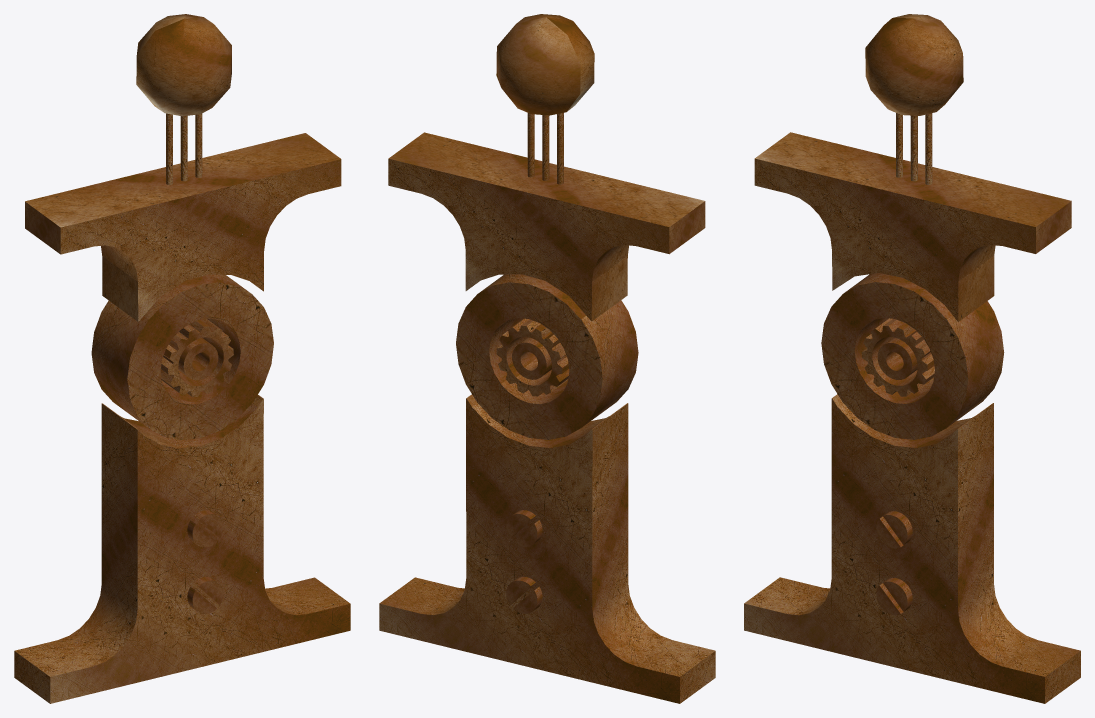
The picture shows the model from 3 angles, left to right: view 1: azimuth 30°, elevation 25°; view 2: azimuth 150°, elevation 25°; view 3: azimuth 330°, elevation 25°; orthographic projection.
Parts seen in each view (by area): view 1: I, Sphere_058, Cogwheel_257, Screw_818, Screw_821; view 2: I, Sphere_058, Cogwheel_257, Screw_818, Screw_821, Tube_413; view 3: I, Sphere_058, Cogwheel_257, Screw_818, Screw_821, Tube_418, Tube_413.
Boxes of the visible parts, x1,y1,x2,y2 form: I: [14, 133, 350, 703]; Sphere_058: [136, 14, 231, 116]; Cogwheel_257: [160, 319, 233, 396]; Screw_818: [187, 510, 223, 547]; Screw_821: [187, 577, 223, 613]; I: [379, 132, 715, 703]; Sphere_058: [496, 14, 594, 115]; Cogwheel_257: [496, 318, 569, 396]; Screw_818: [506, 510, 542, 547]; Screw_821: [506, 576, 542, 613]; Tube_413: [542, 115, 549, 180]; I: [744, 132, 1080, 703]; Sphere_058: [865, 14, 963, 115]; Cogwheel_257: [861, 318, 934, 396]; Screw_818: [876, 511, 912, 548]; Screw_821: [876, 578, 912, 615]; Tube_418: [925, 113, 932, 184]; Tube_413: [910, 115, 917, 181].
Bounding box in the file's own units: 48.41 × 97.86 × 13.87.
1 material, 1 textured.
